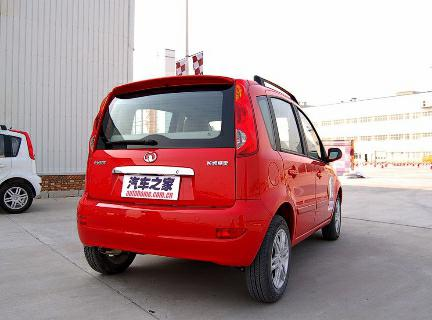长城-精灵: (75, 74, 352, 302)
